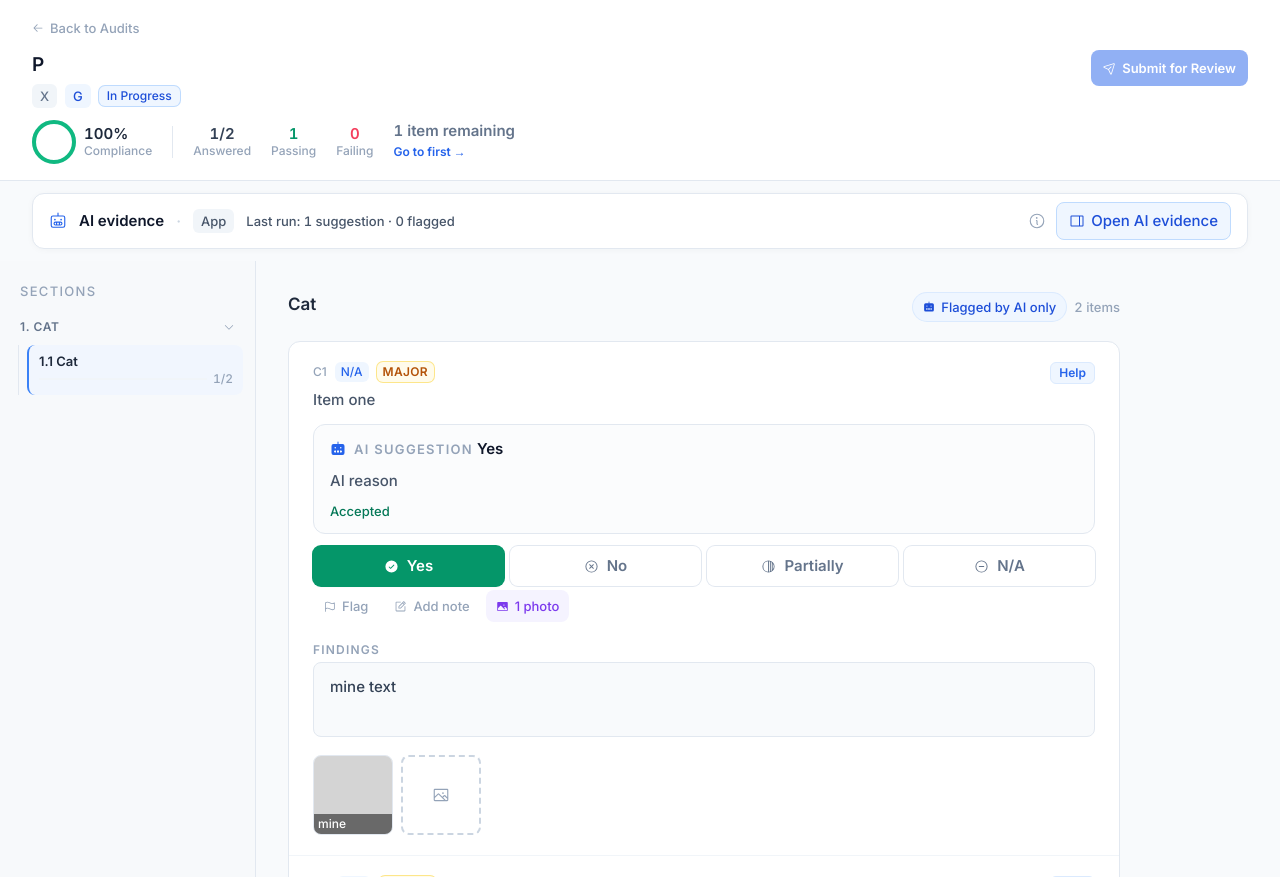
Test: page wiring (should hold) › W3 different answer: dialog, overridden, empty list keeps photos, findings kept
Expected: the text "Accepted" is shown, left=330, top=503, right=390, bottom=519
Click the button "No" at [606, 566], box left=510, top=546, right=701, bottom=586
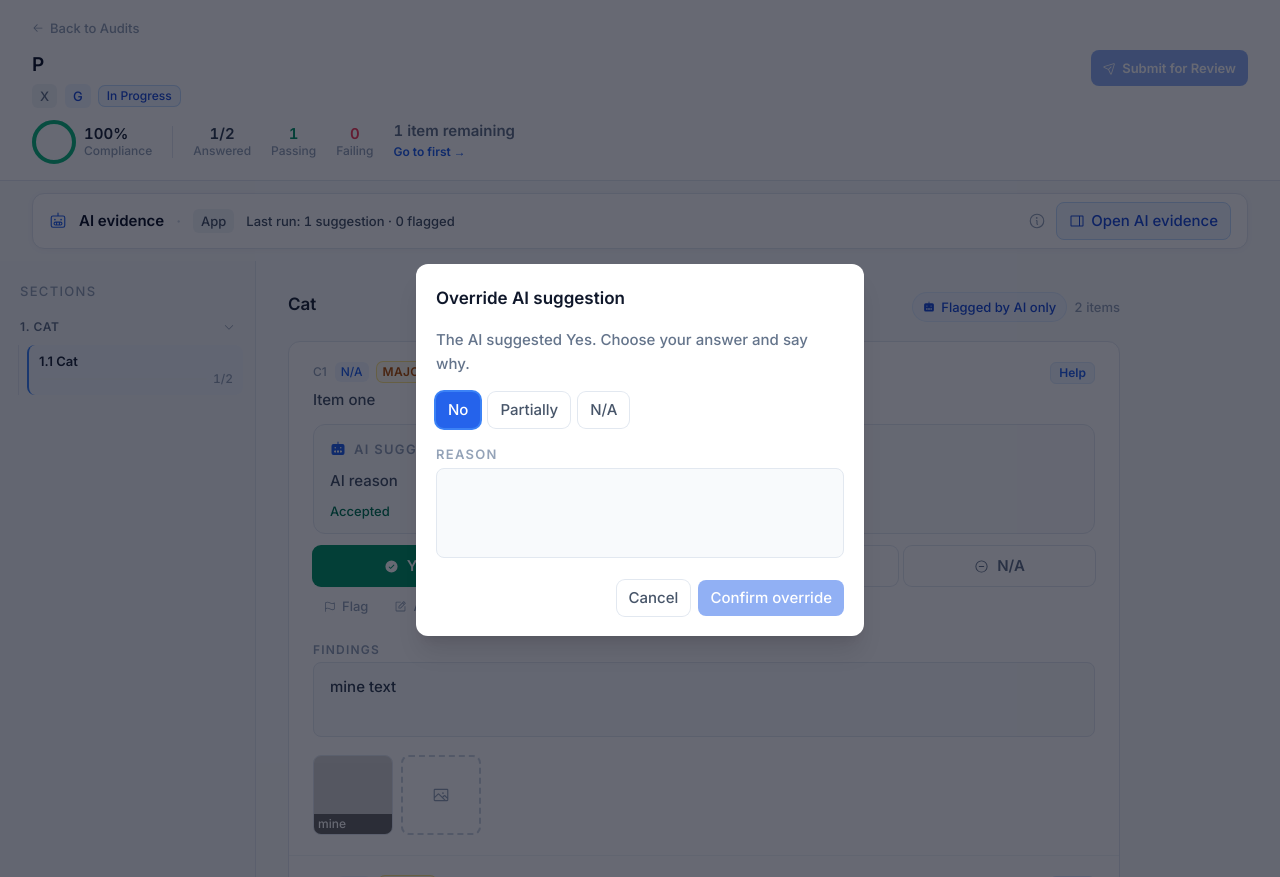
Type "because" into the text box labelled "Reason" at [640, 513], box left=436, top=468, right=844, bottom=558
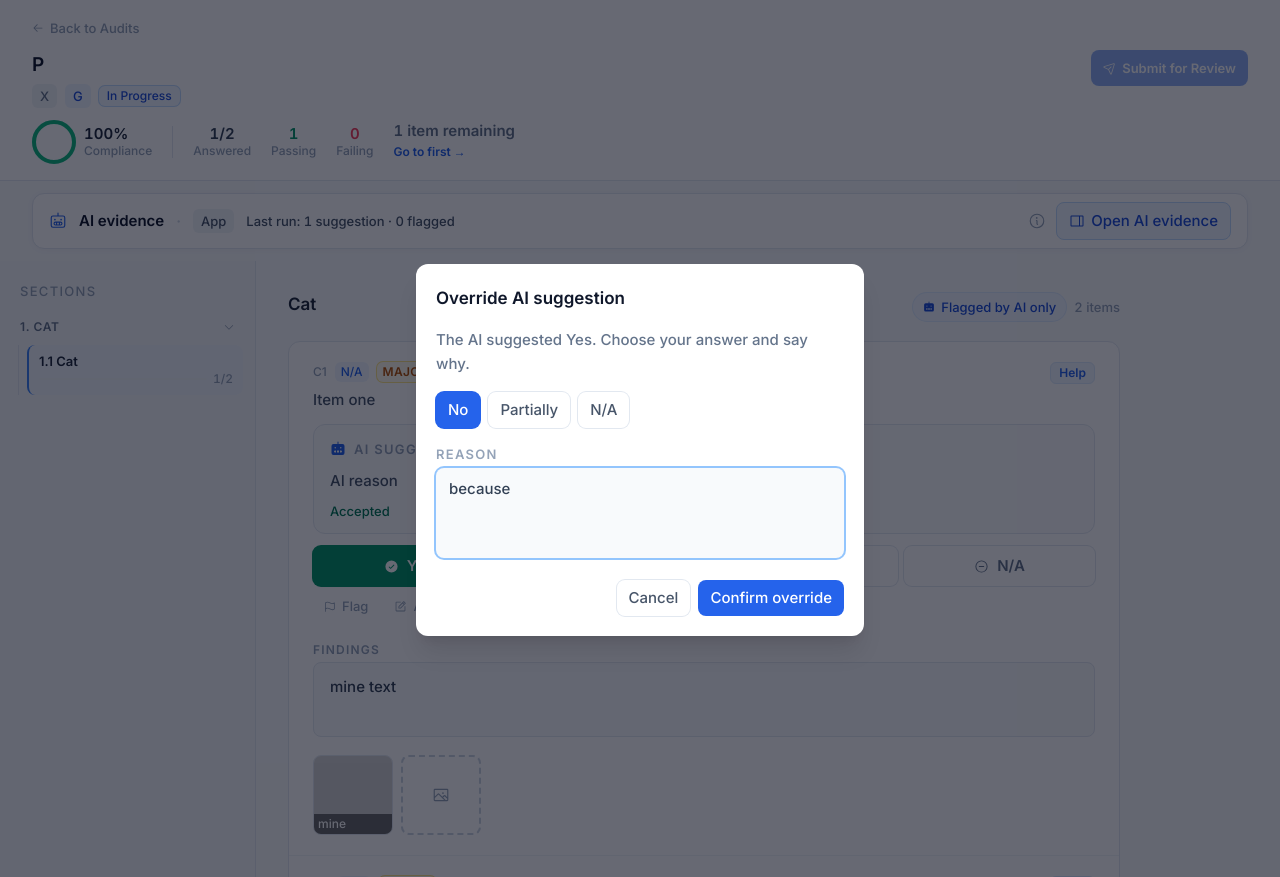
Click the button "Confirm override" at [771, 598], box left=698, top=580, right=844, bottom=616
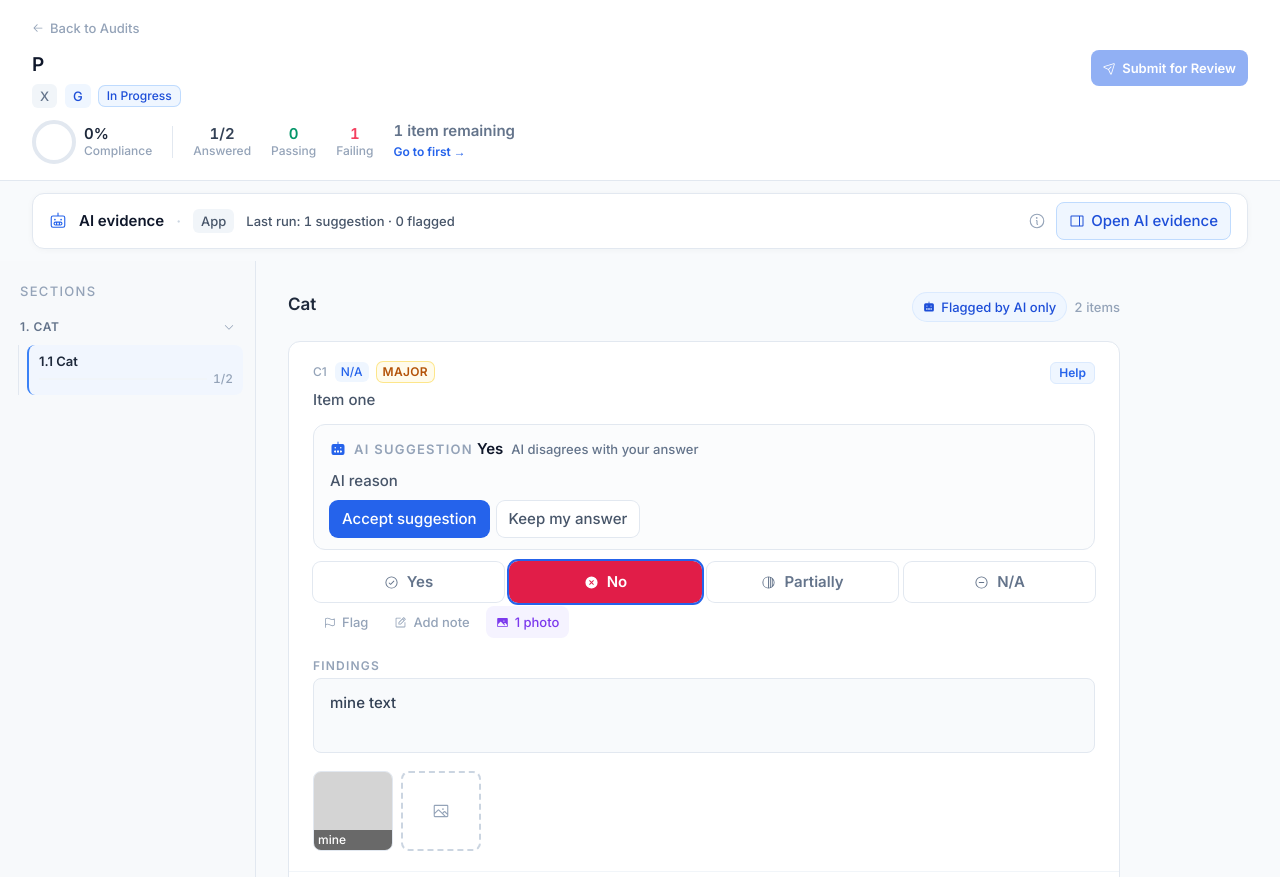
Expected: the text box with placeholder "Describe what you observed on the platform…" holds "mine text", left=313, top=678, right=1095, bottom=753
Expected: the dialog is gone
